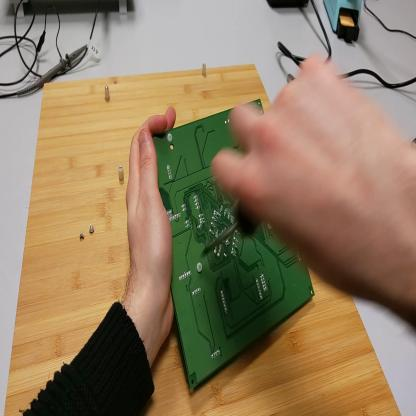hand: (213, 51, 416, 304), (124, 106, 178, 342)
low voltage board: (152, 99, 315, 397)
oscilloscope probe tip: (16, 43, 87, 97)
screwdriver-: (203, 199, 261, 257)
welder base: (324, 1, 364, 47)
welder station: (268, 2, 310, 12)
working area: (5, 62, 402, 416)
